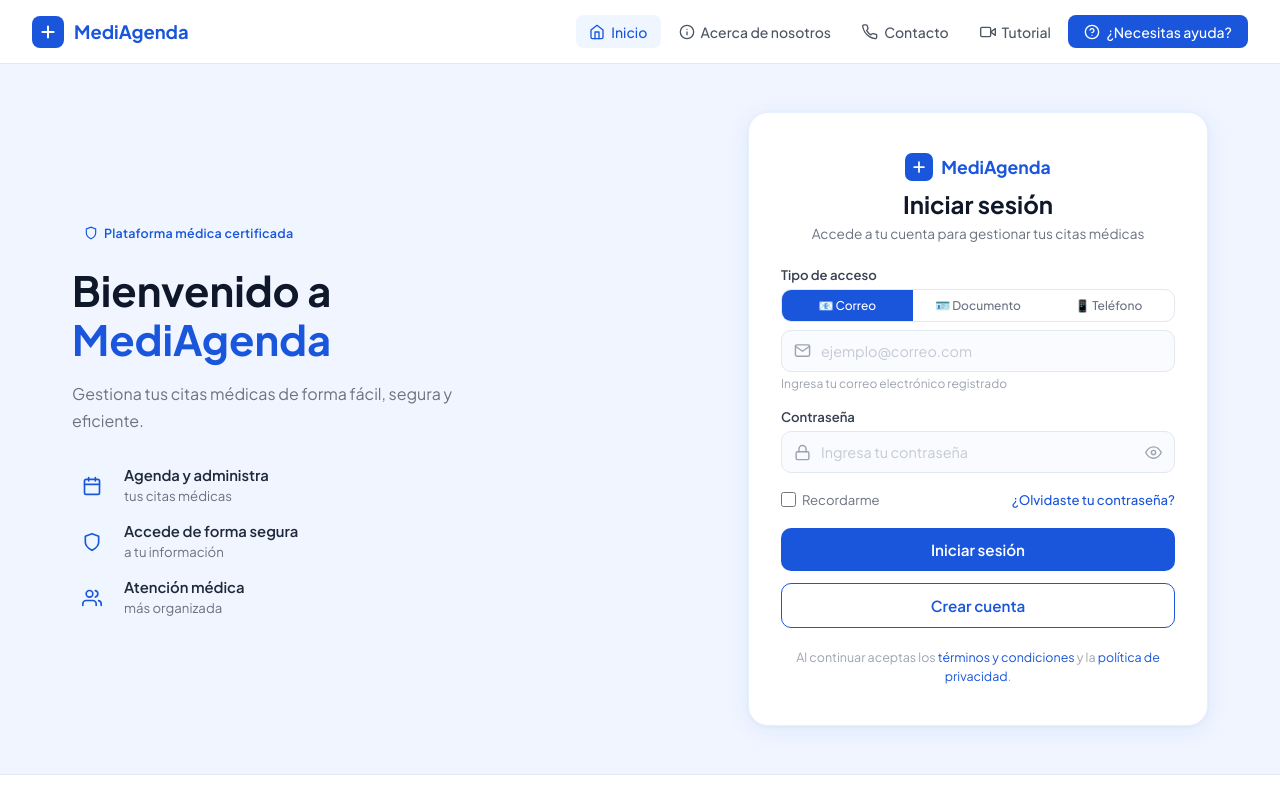
Componente Login - MediAgenda › Interacciones del usuario › debe cambiar placeholder al seleccionar tipo Teléfono
This screenshot has width=1280, height=791.
Click the button "📱 Teléfono": (1109, 305) [1043,290,1174,321]
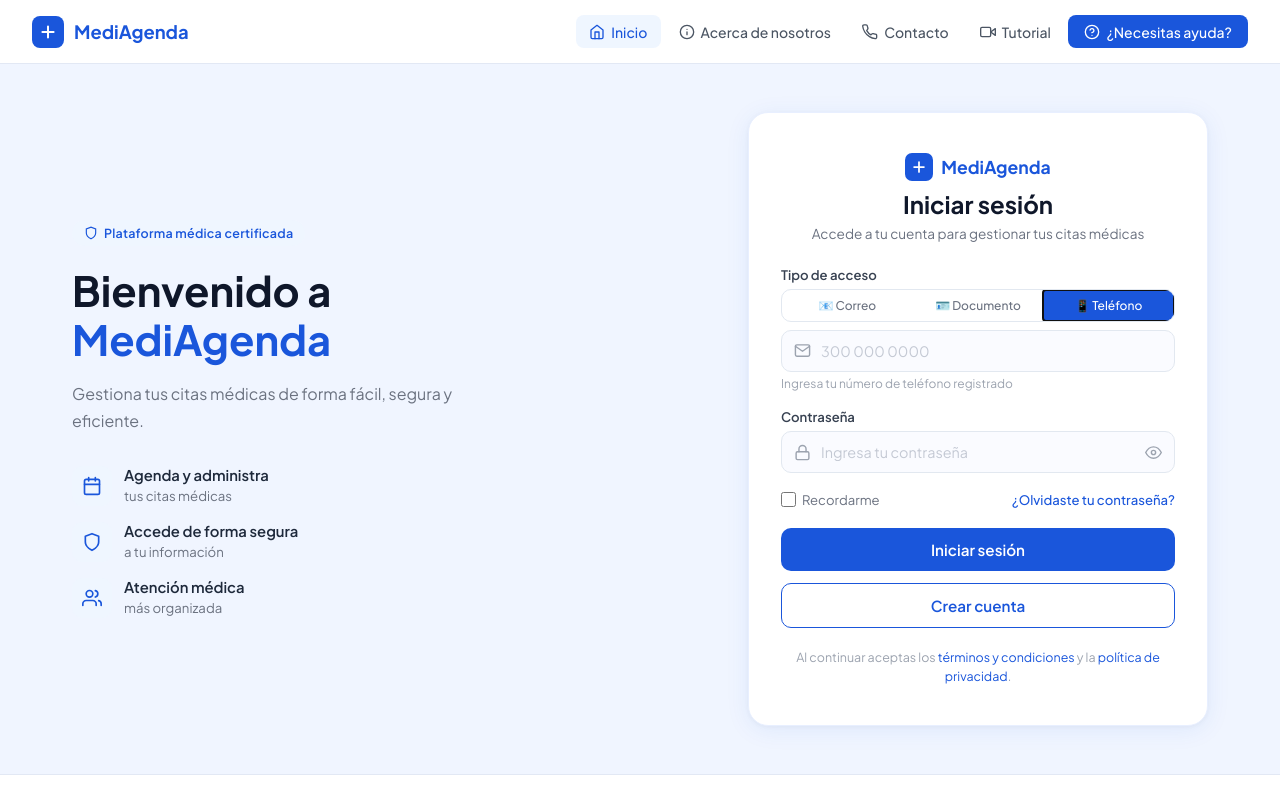
Result: the field with placeholder "300 000 0000" is shown at [811,331,1162,371]
